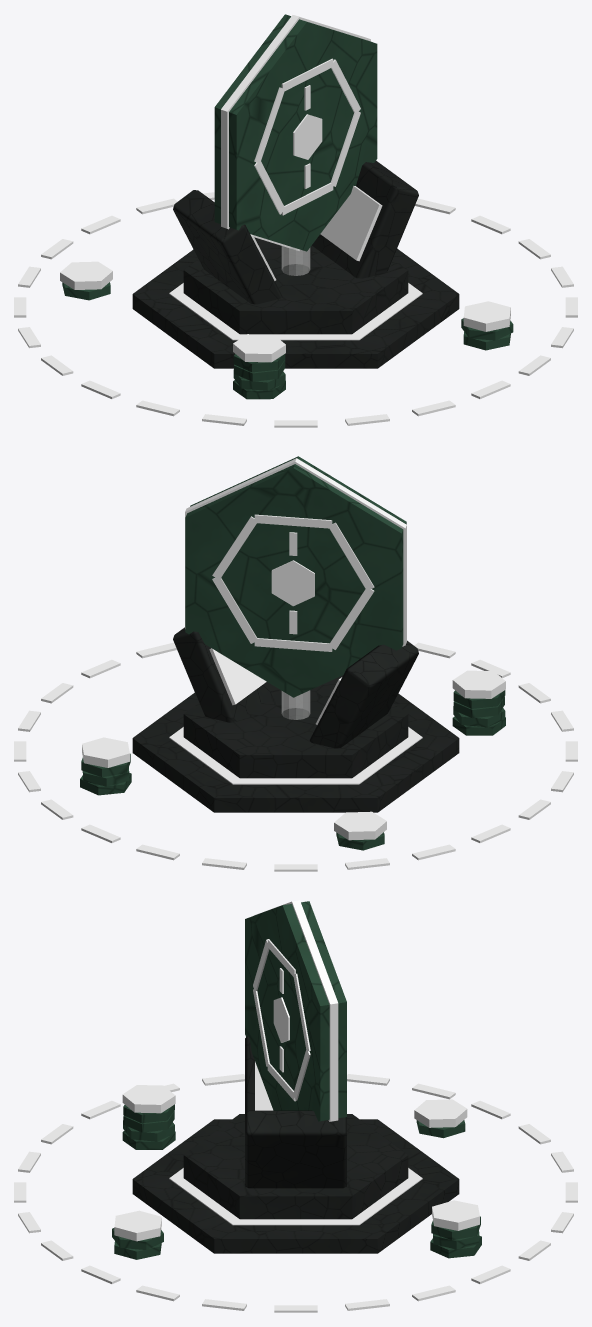
Rendered from node_credit.fbx.
3 views of the same model, one above another, from view 1: azimuth 30°, elevation 25°; view 2: azimuth 150°, elevation 25°; view 3: azimuth 270°, elevation 25° (orthographic).
Parts seen in each view (by area): view 1: Hull, HullSpin, Glow, GlowSpin, GlowSoft; view 2: Hull, HullSpin, Glow, GlowSpin, GlowSoft; view 3: Hull, Glow, HullSpin, GlowSpin.
Part boxes in pixels (<box>): Hull: <box>62,160,513,399</box>; HullSpin: <box>214,14,377,251</box>; Glow: <box>14,186,577,427</box>; GlowSpin: <box>221,15,370,250</box>; GlowSoft: <box>281,246,310,275</box>; Hull: <box>80,627,505,850</box>; HullSpin: <box>185,456,406,697</box>; Glow: <box>14,642,577,871</box>; GlowSpin: <box>185,458,406,651</box>; GlowSoft: <box>281,690,310,719</box>; Hull: <box>112,1036,481,1259</box>; Glow: <box>14,1061,577,1312</box>; HullSpin: <box>245,901,346,1121</box>; GlowSpin: <box>253,900,338,1121</box>.
Bounding box in the file's own units: 2.76 × 1.58 × 2.76.
